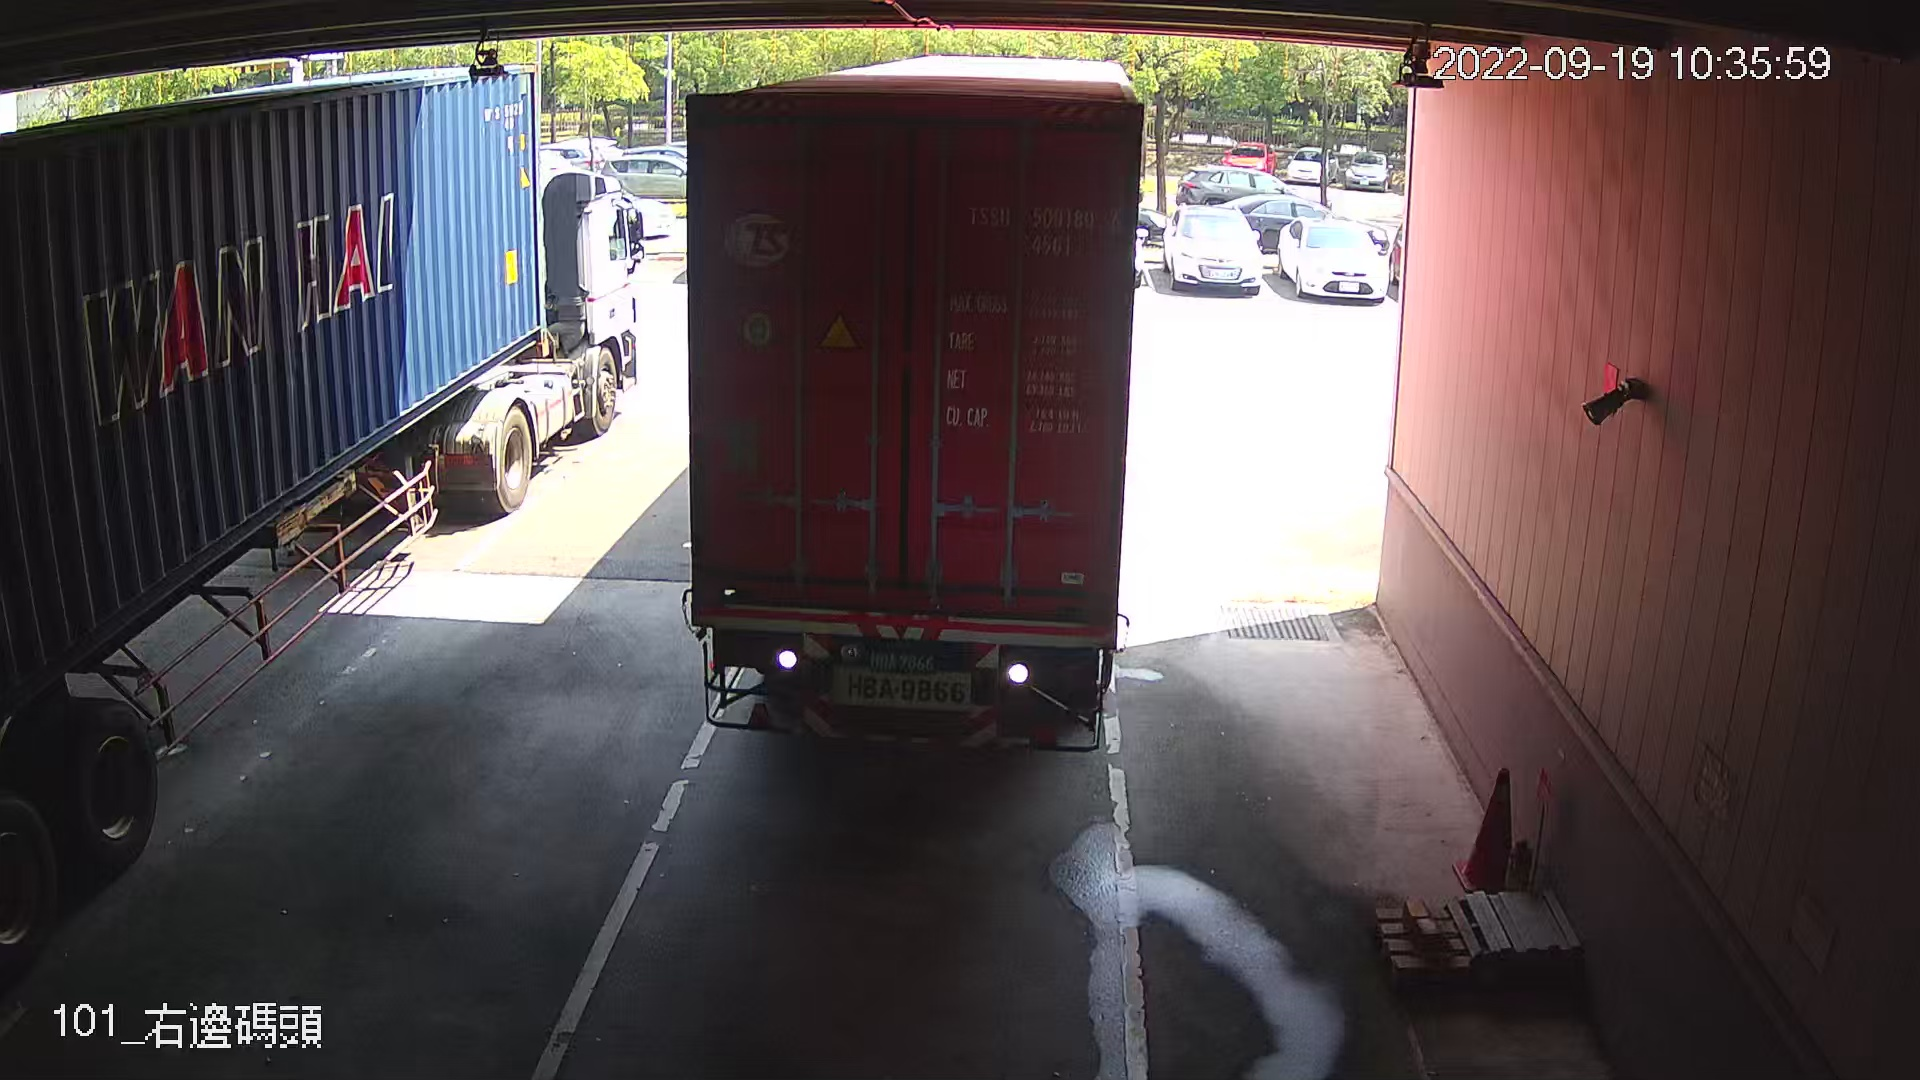container: (959, 190, 1126, 266)
